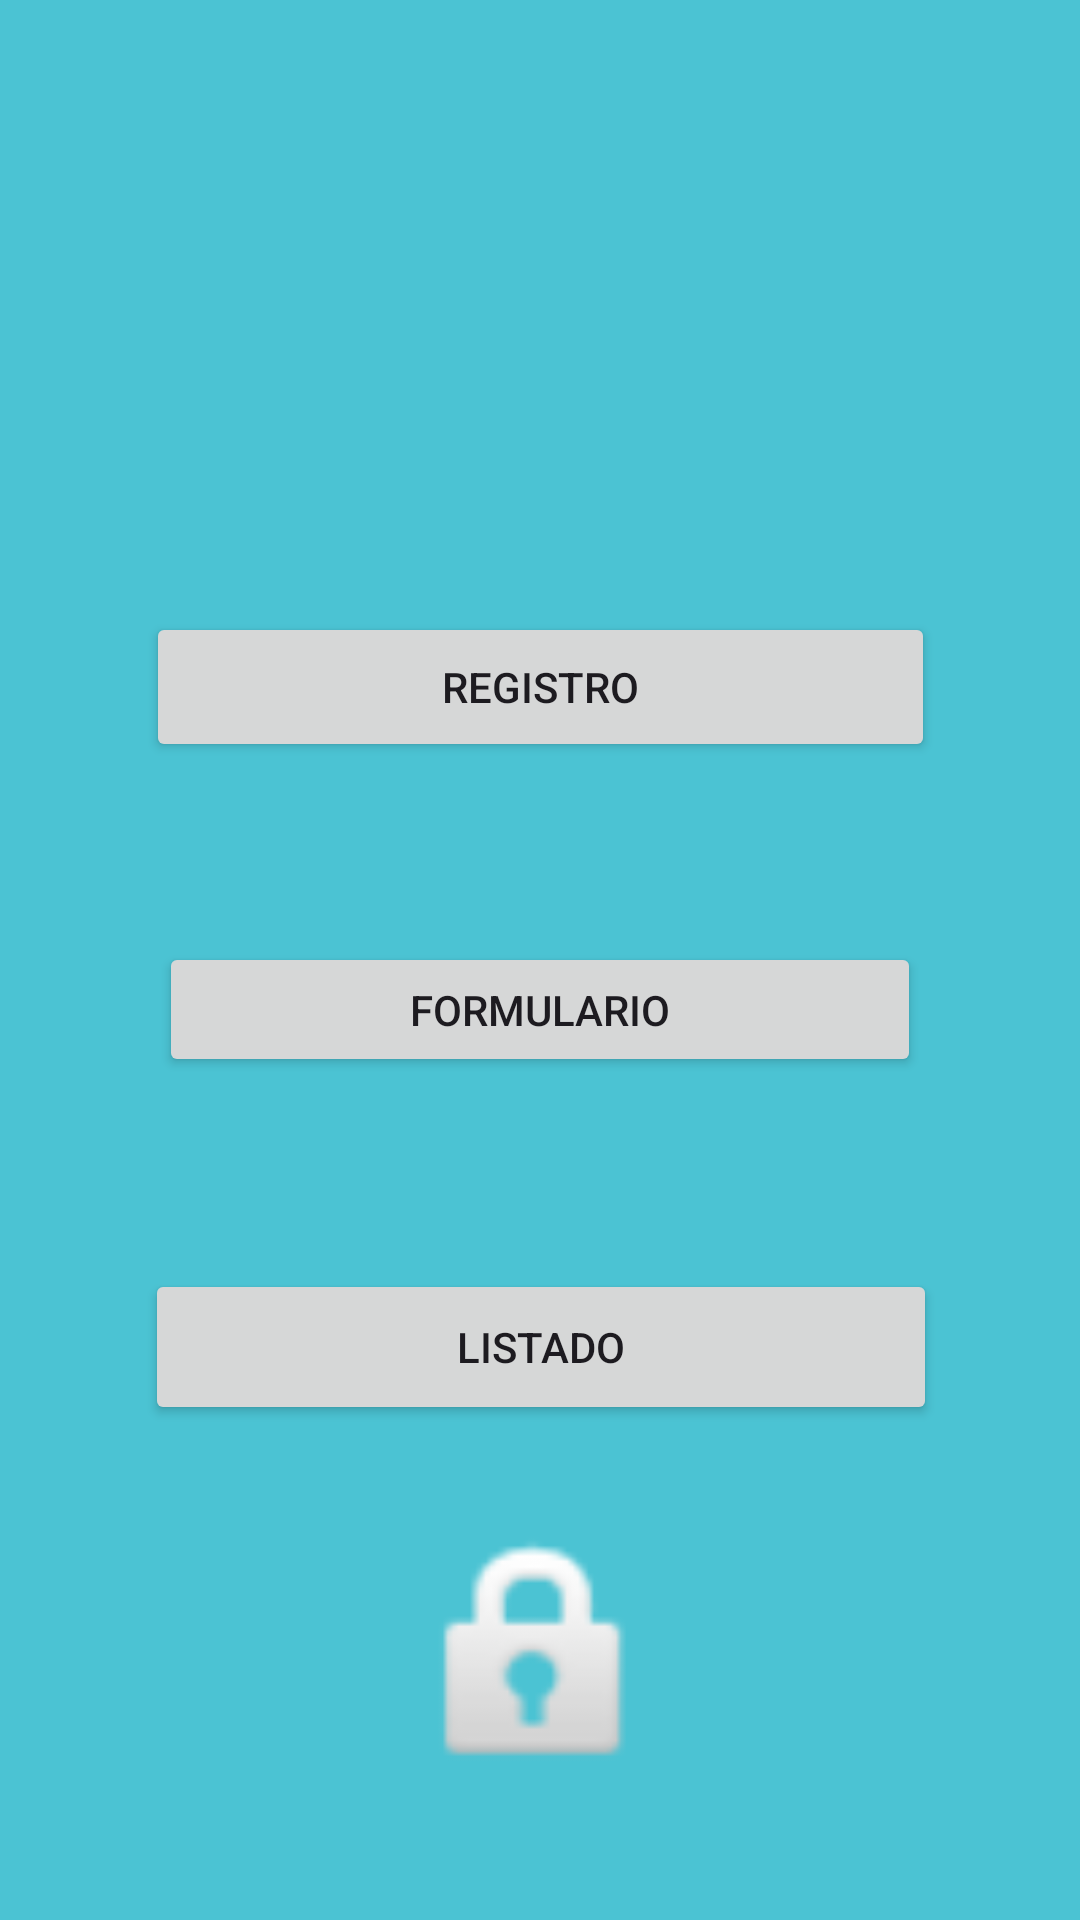

Where to tap for icons on this 1080 × 1920 app screen, as (x=x, y=y):
lock idle: (x=533, y=1650)
